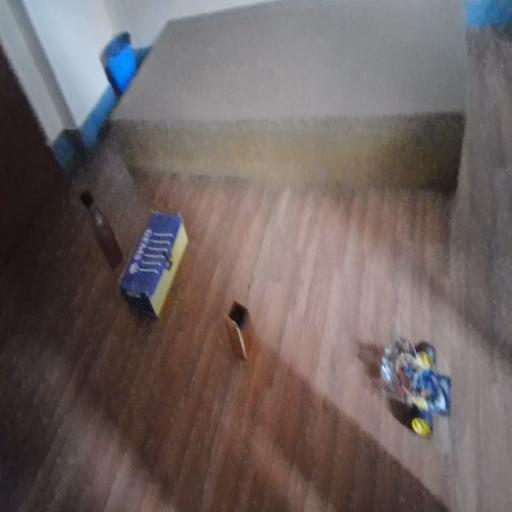Bottle: (75, 172, 131, 263)
car: (389, 339, 445, 436)
